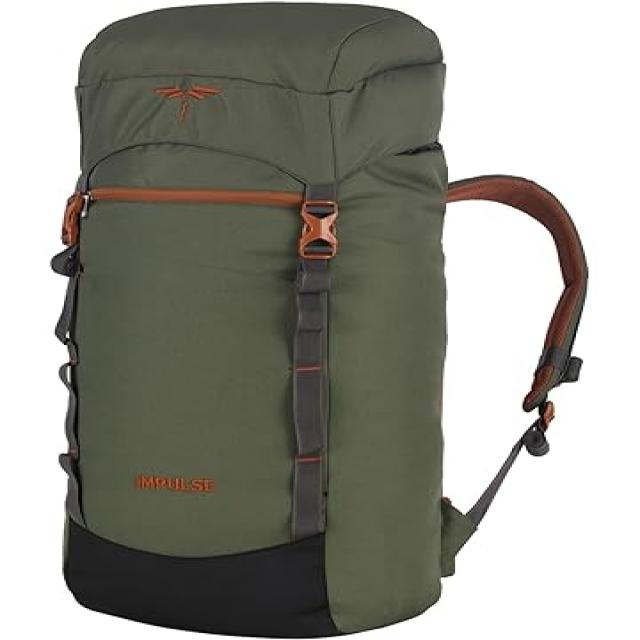backpack: (37, 2, 609, 640)
